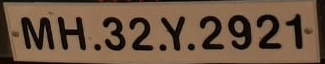character: (18, 15, 54, 50), (56, 14, 87, 50), (255, 12, 282, 50), (198, 14, 225, 50), (160, 14, 185, 50), (227, 14, 252, 50), (128, 16, 153, 50), (101, 15, 125, 50), (284, 13, 304, 48)
